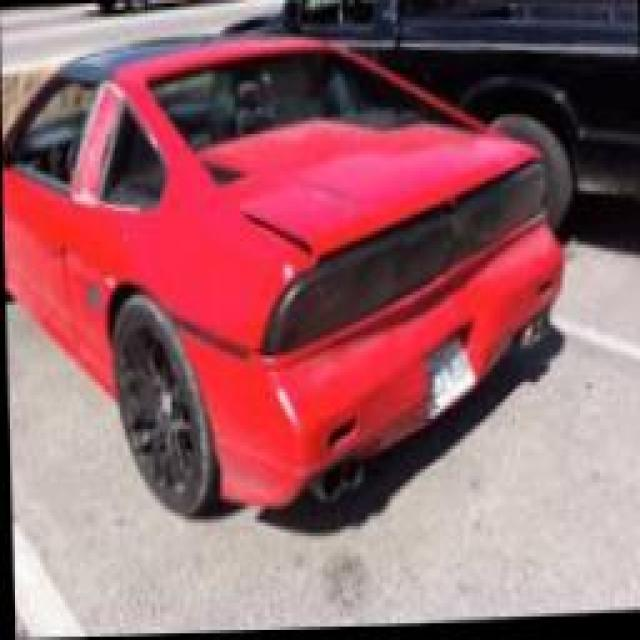replaceable: (163, 64, 408, 128), (84, 102, 166, 198)
